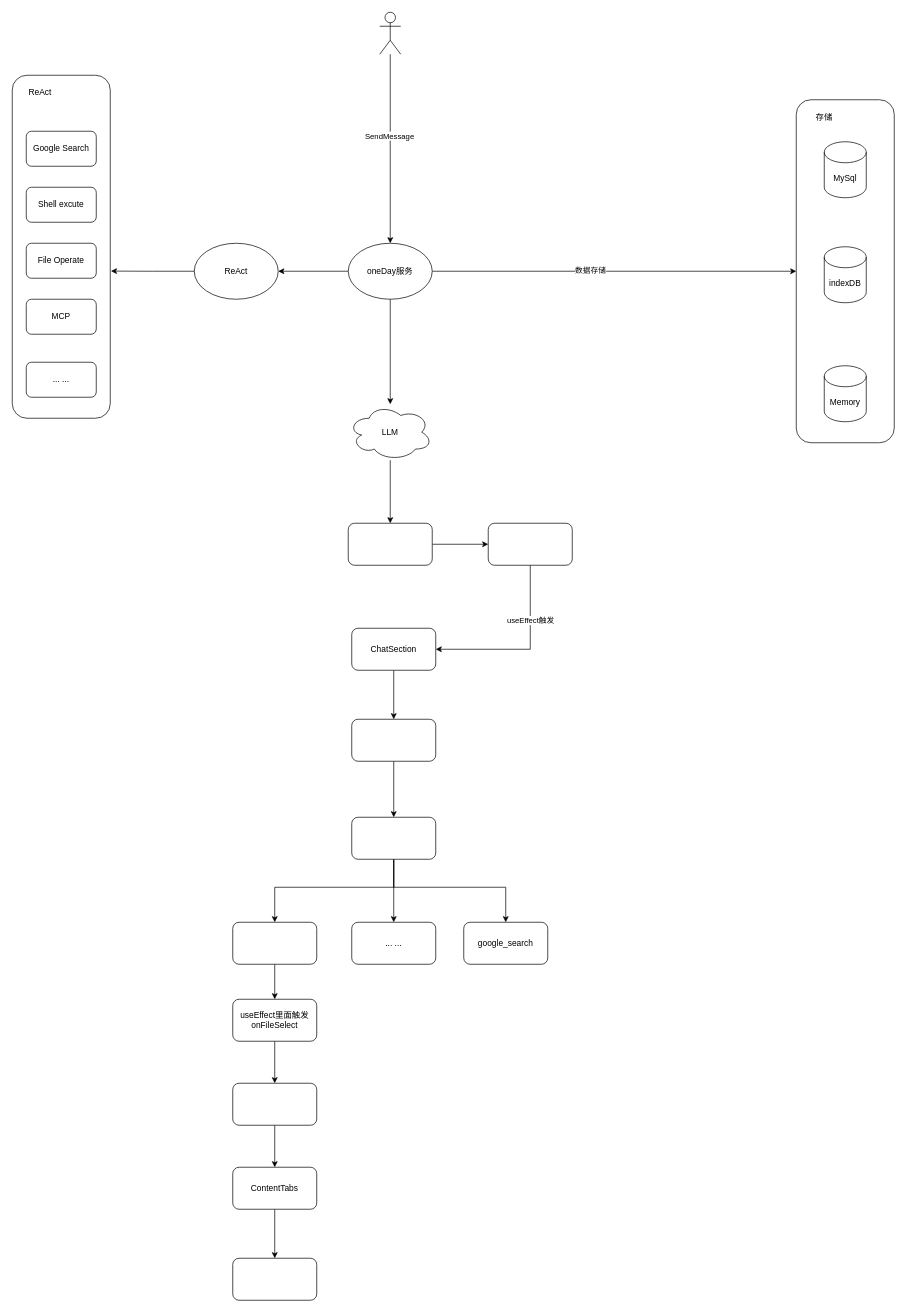
Image size: 907x1313. Some labels were removed from this diagram. The box of each missing label's shape, as (x1, y1, x2, y2) in pixels:
Actor: (379, 12, 401, 54)
FilePreview: (232, 1083, 317, 1125)
handleStreamData: (348, 523, 432, 565)
renderContentBody: (232, 1258, 317, 1300)
ToolComp: (351, 817, 436, 859)
write_to_filte: (232, 922, 317, 964)
XMLViwer: (351, 719, 436, 761)
更新Messages: (488, 523, 572, 565)
